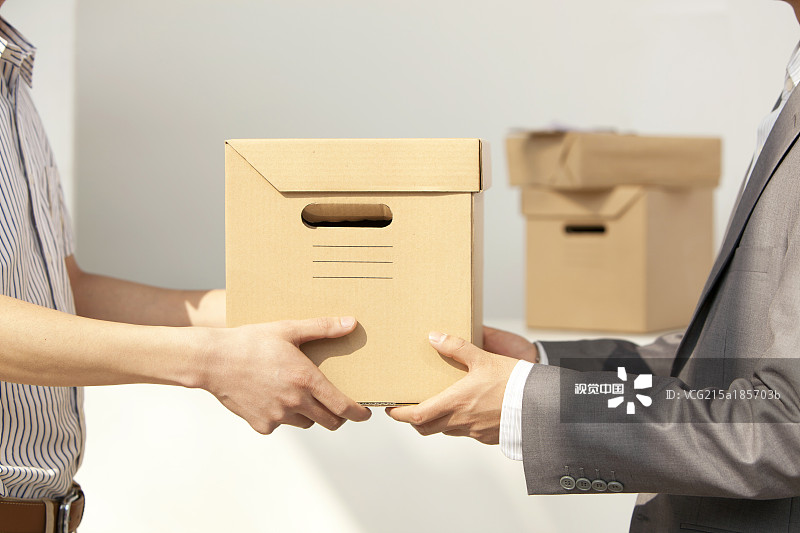no-phone: (187, 309, 380, 442), (379, 324, 532, 455)
